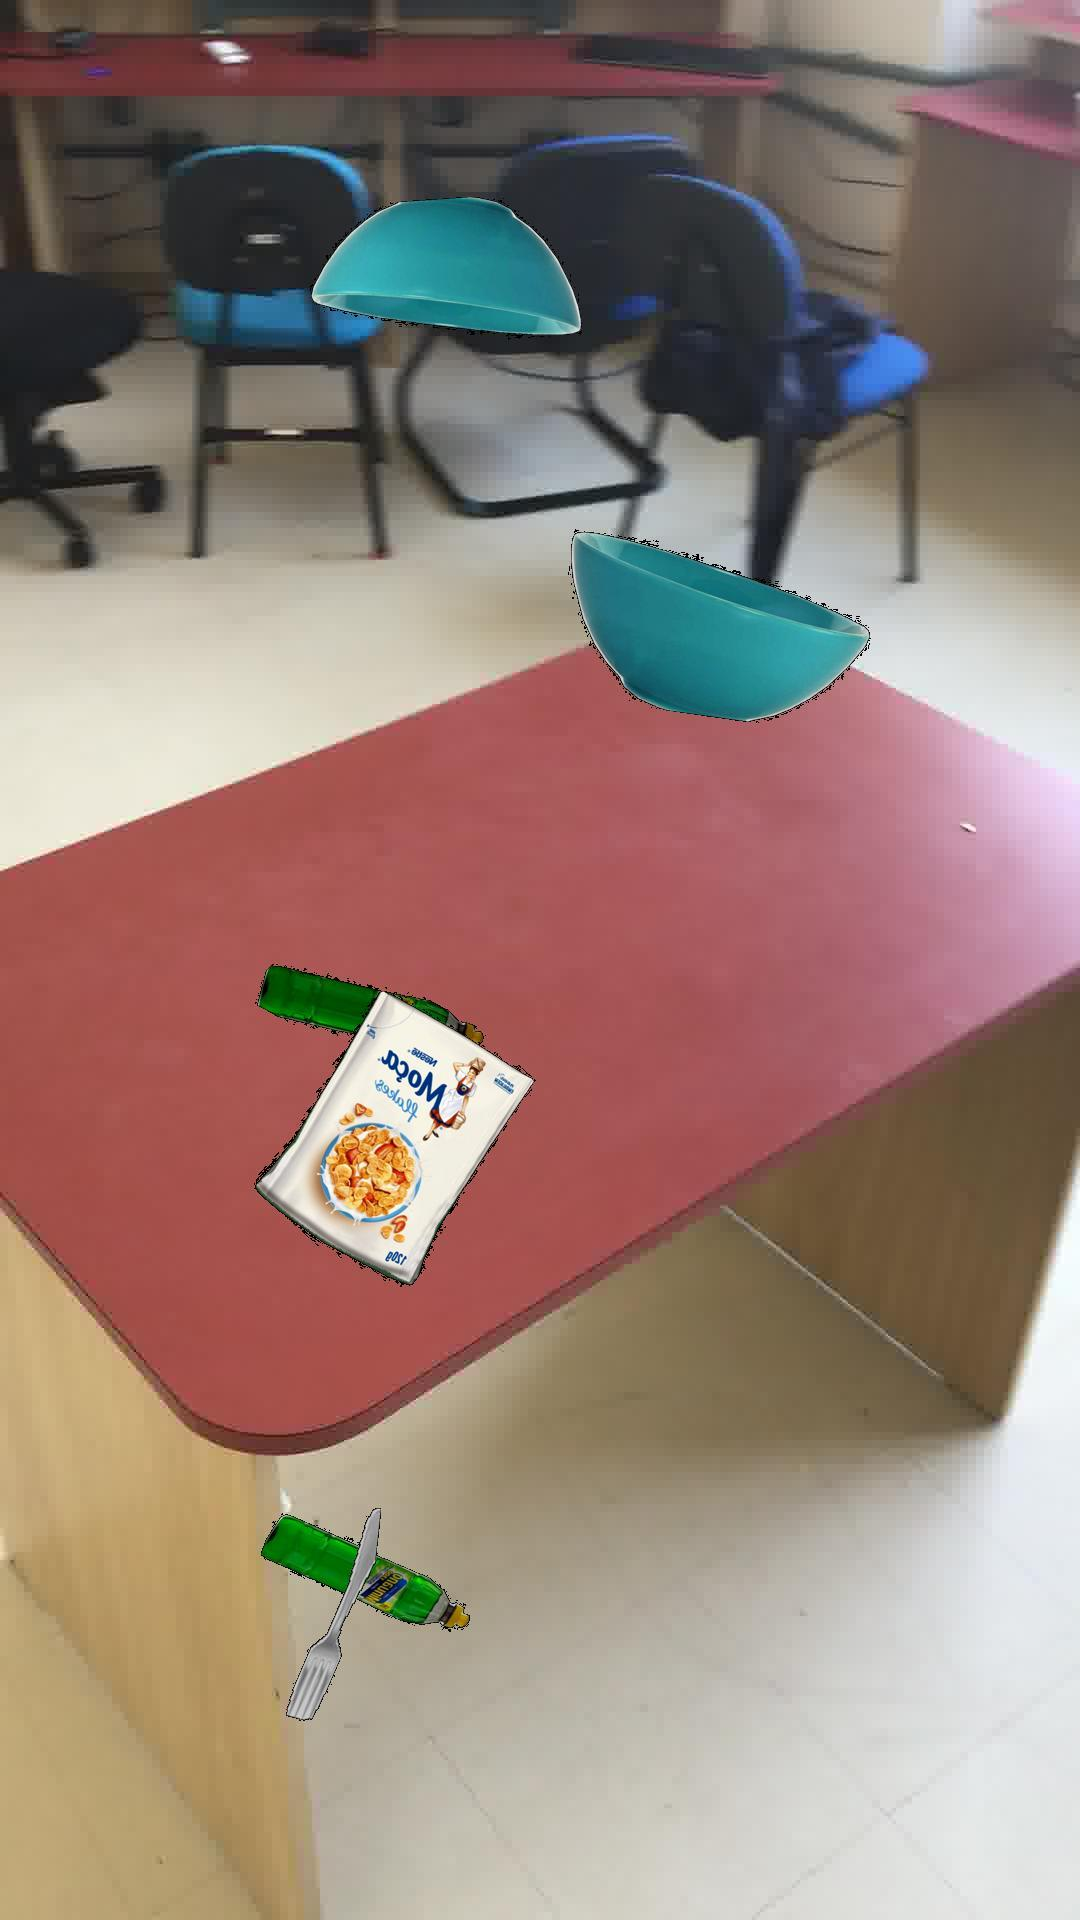bowl: (570, 530, 869, 720), (309, 195, 580, 338)
cleaner: (260, 1513, 468, 1627), (256, 963, 483, 1043)
corn flakes: (252, 989, 534, 1286)
fork: (285, 1506, 380, 1720)
